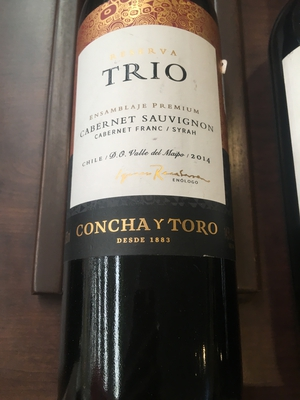trio cabernet sauvignon: (59, 7, 255, 386)
